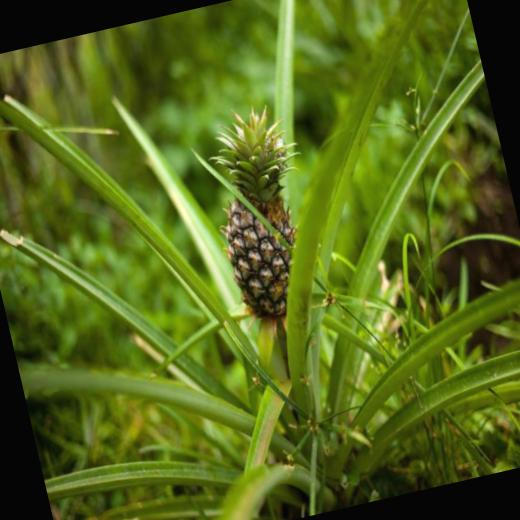Mango: (190, 96, 335, 327)
